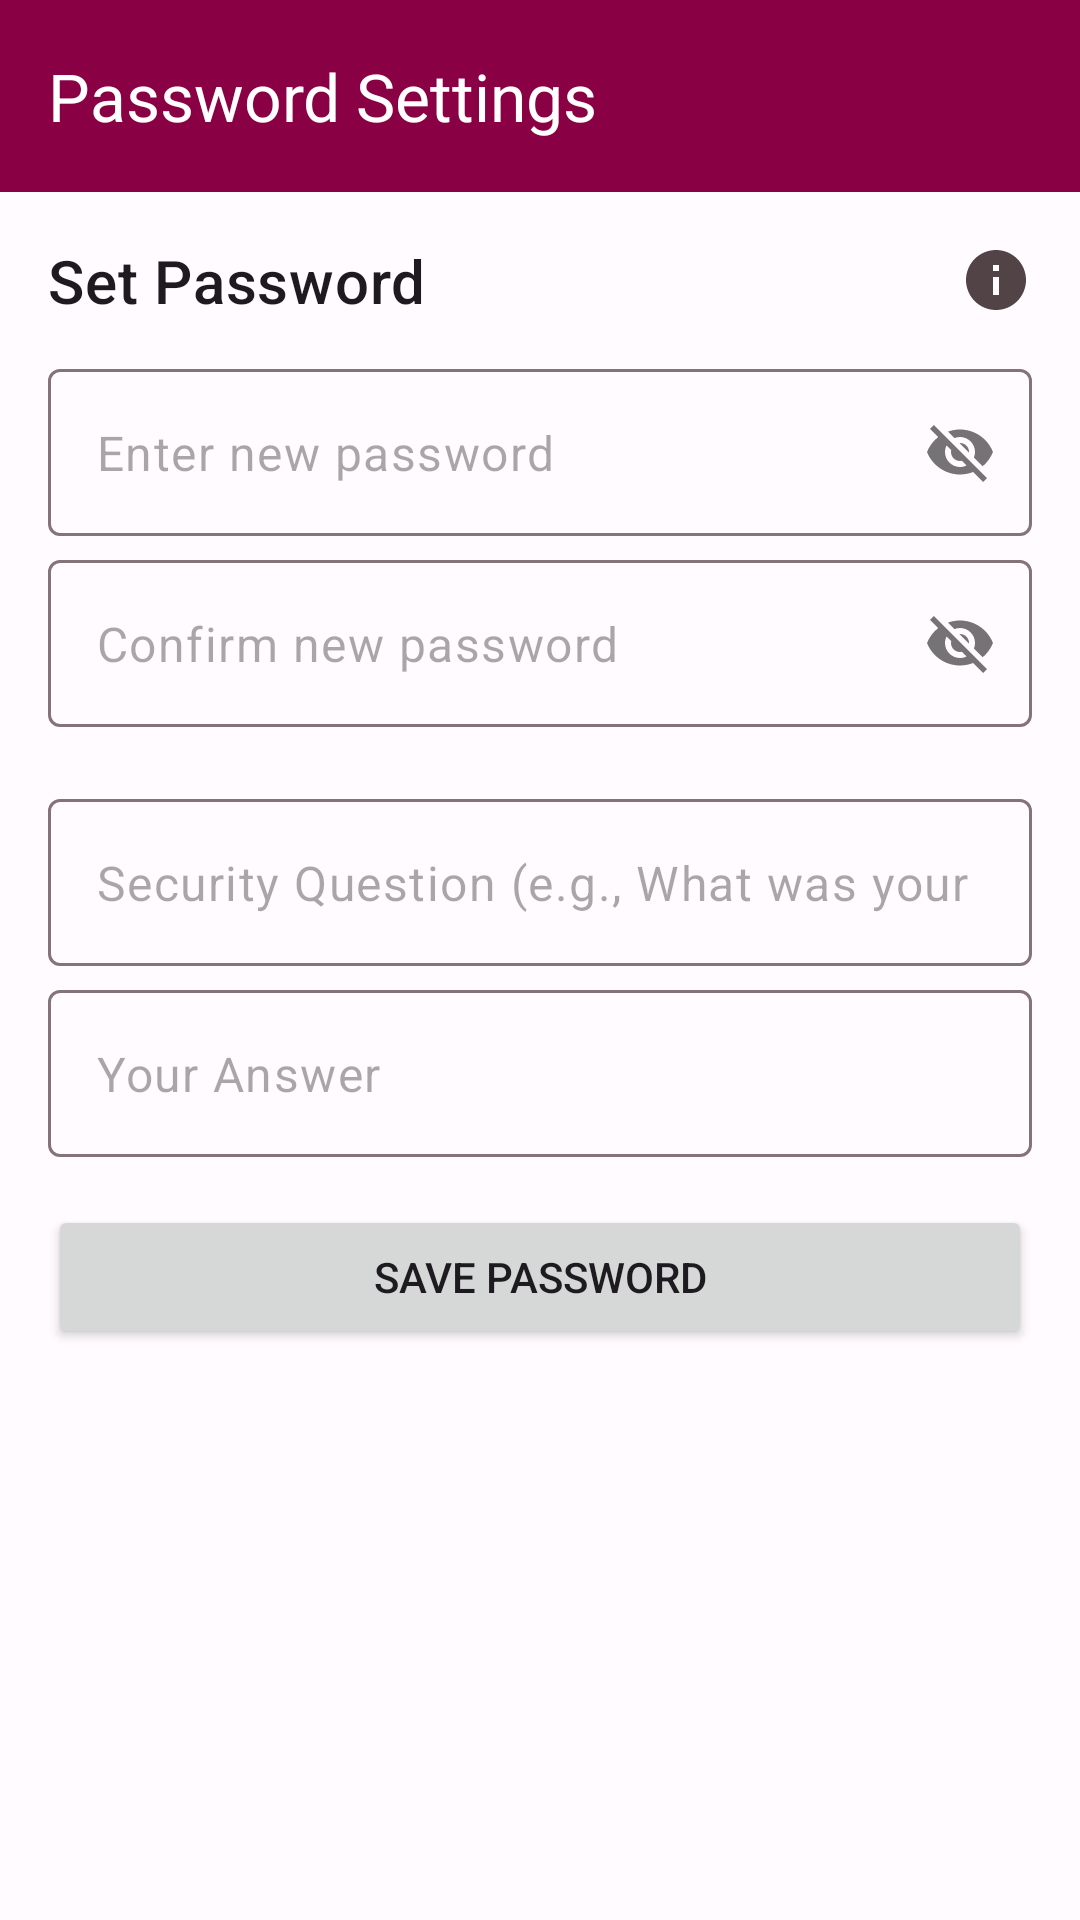

Icons on this 1080*1920 Android screen, each with the point to tap as (x=x, y=y):
Security Info: (x=996, y=280)
